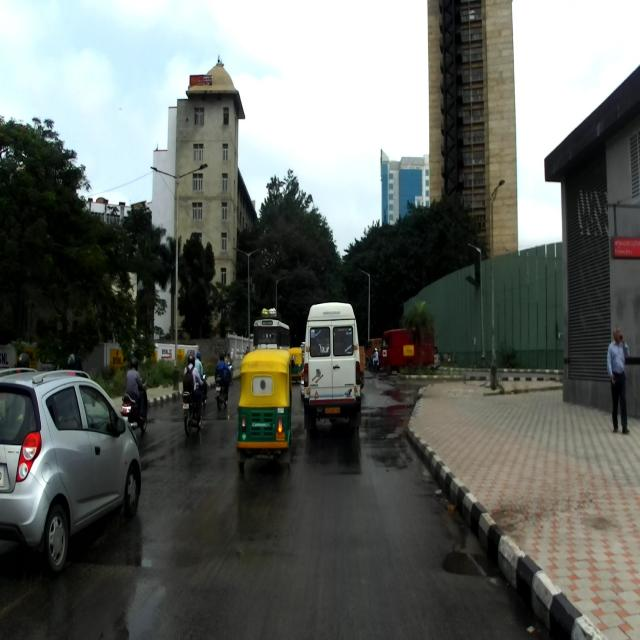autorickshaw: (234, 348, 294, 473)
car: (0, 368, 142, 574)
mini-bus: (302, 301, 364, 442)
scooter: (120, 371, 150, 432)
